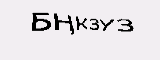Б: (30, 11, 52, 31)
З: (116, 17, 134, 33), (88, 17, 98, 31)
К: (75, 15, 87, 31)
Н: (53, 13, 75, 37)
Ү: (99, 18, 114, 32)
